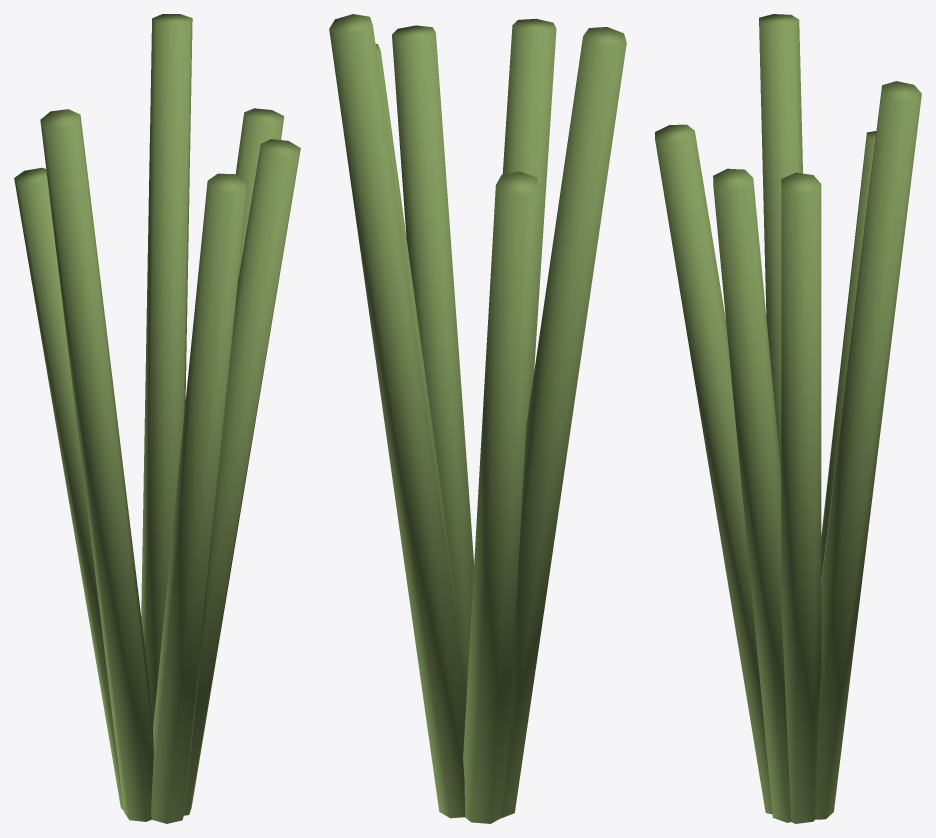
File: Celery.glb
The picture shows the model from 3 angles, left to right: view 1: azimuth 30°, elevation 25°; view 2: azimuth 150°, elevation 25°; view 3: azimuth 270°, elevation 25°; orthographic projection. The views are drawn at different scales.
Visible parts, largest first — view 1: Celery; view 2: Celery; view 3: Celery.
Part boxes in pixels (bbox=[...]): Celery: bbox=[14, 14, 300, 823]; Celery: bbox=[329, 14, 626, 823]; Celery: bbox=[655, 14, 921, 823].
Size of what is drawn, in the model's own units: 0.0554 by 0.1571 by 0.0505.
